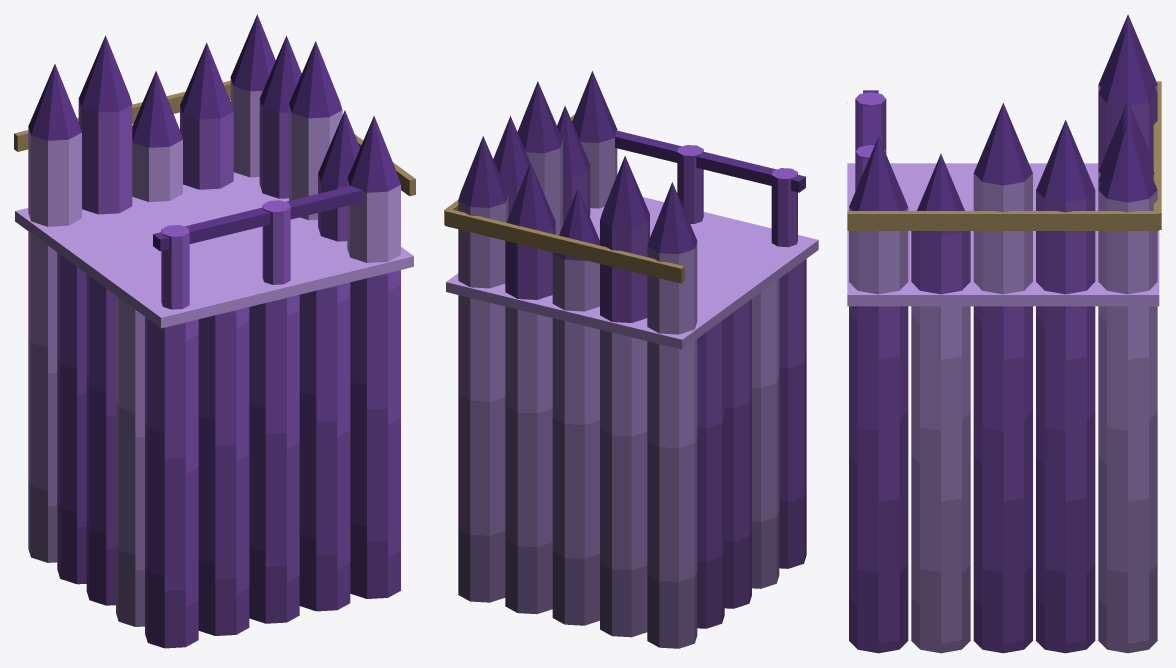
File: perimeter_wall_crystal_f8.glb
3 renders of one model, left to right at view 1: azimuth 30°, elevation 25°; view 2: azimuth 150°, elevation 25°; view 3: azimuth 270°, elevation 25°, orthographic. The views are drawn at different scales.
Size of the model in its own units: 2.01 by 3.9 by 2.01.
1 material, 1 textured.
